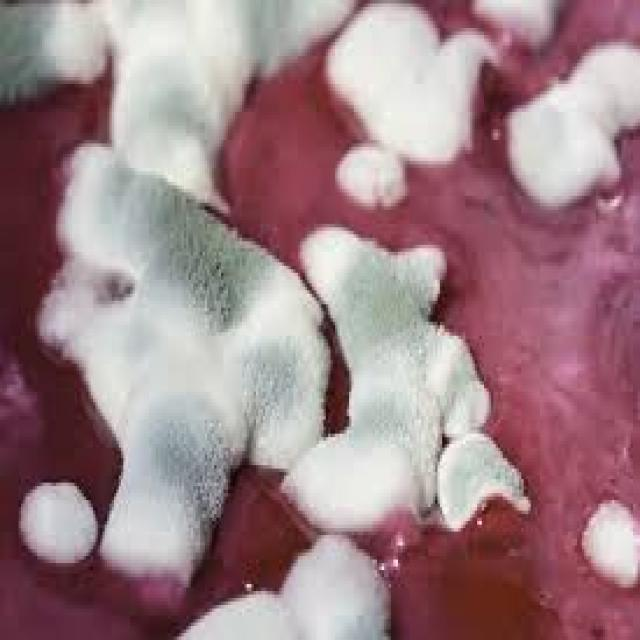organic waste: (0, 0, 638, 637), (33, 136, 328, 574), (288, 234, 486, 528), (88, 0, 353, 206), (319, 0, 496, 154), (156, 528, 389, 637), (505, 38, 638, 210), (433, 430, 530, 532), (0, 0, 104, 94), (16, 476, 98, 563), (575, 493, 638, 588), (330, 133, 405, 206), (463, 0, 558, 45)
